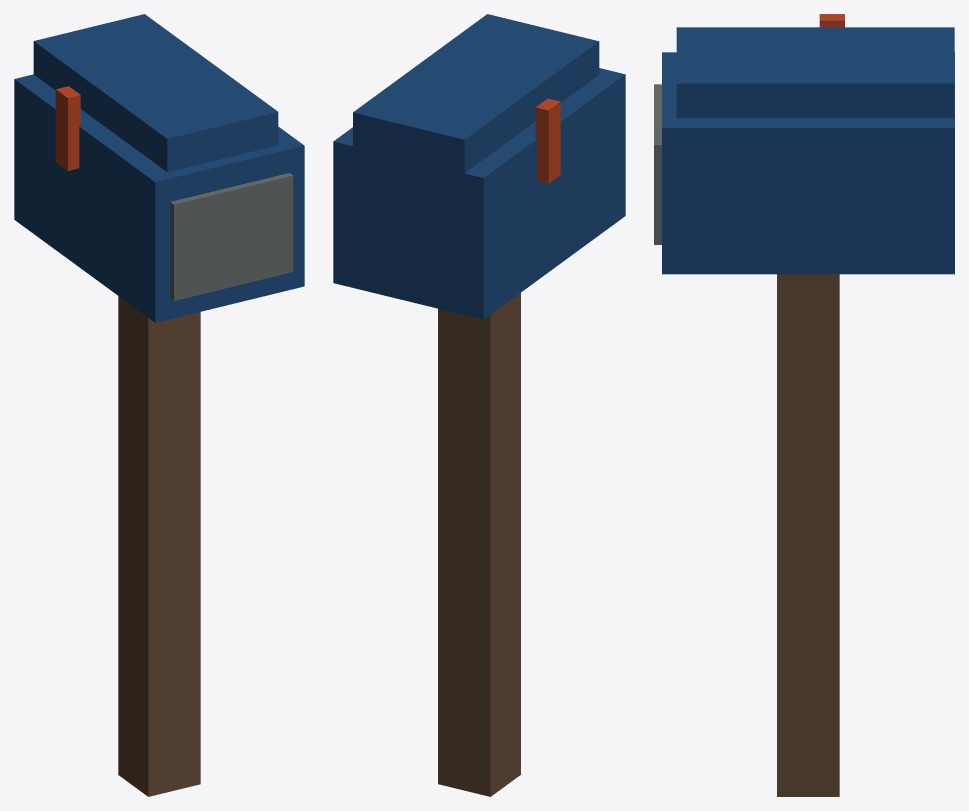
The model's file is mailbox.glb.
3 views of the same model, side by side, from view 1: azimuth 30°, elevation 25°; view 2: azimuth 150°, elevation 25°; view 3: azimuth 270°, elevation 25° (orthographic). The views are drawn at different scales.
Visible parts, largest first — view 1: mailbox; view 2: mailbox; view 3: mailbox.
Boxes of the visible parts, box(x1,y1,x2,y2) form: mailbox: box(14, 14, 304, 796); mailbox: box(333, 14, 625, 796); mailbox: box(654, 14, 954, 796).
Bounding box in the file's own units: 0.323 × 1.34 × 0.503.
